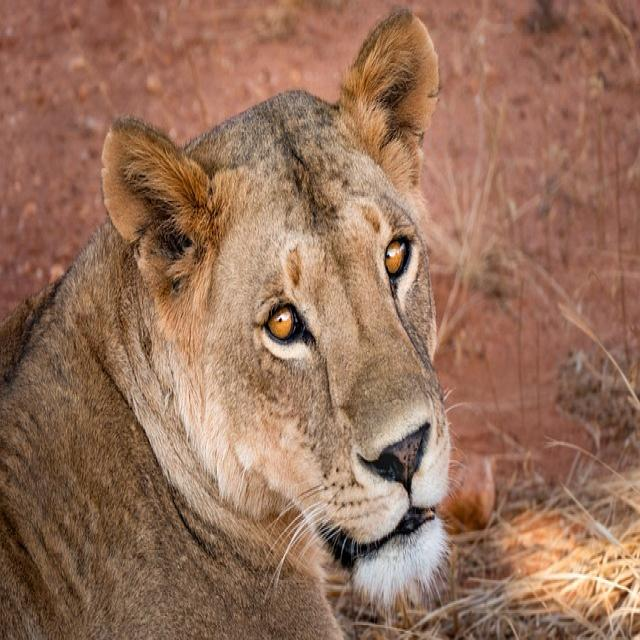Carnivorous: (0, 10, 454, 640)
